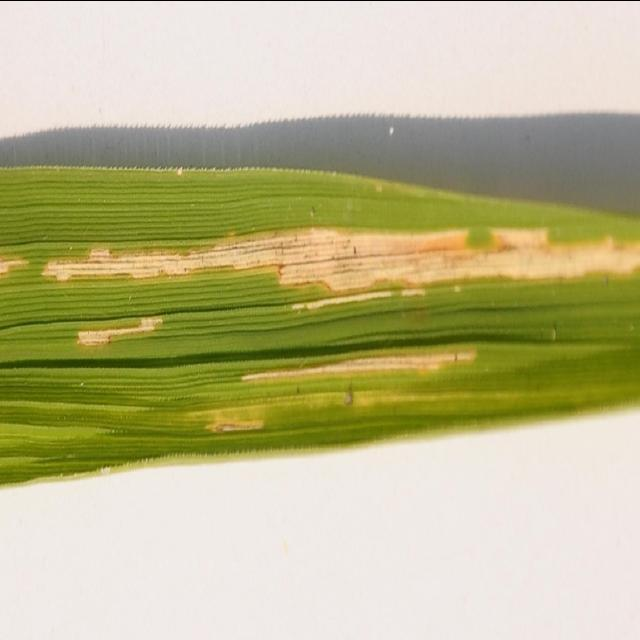Bacterial leaf blight: (0, 68, 640, 510)
